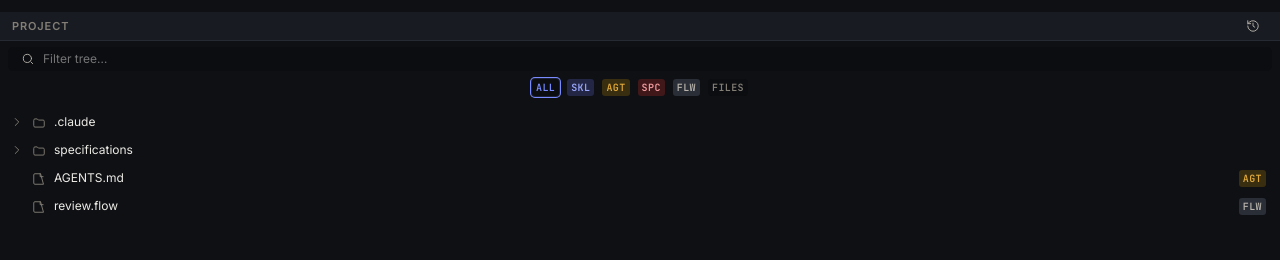
persisted panel state (LIB-FR-14 … LIB-FR-17) › persists the expanded set when a folder is expanded
Click the text "specifications" at (94,150), box [54,142,133,157]
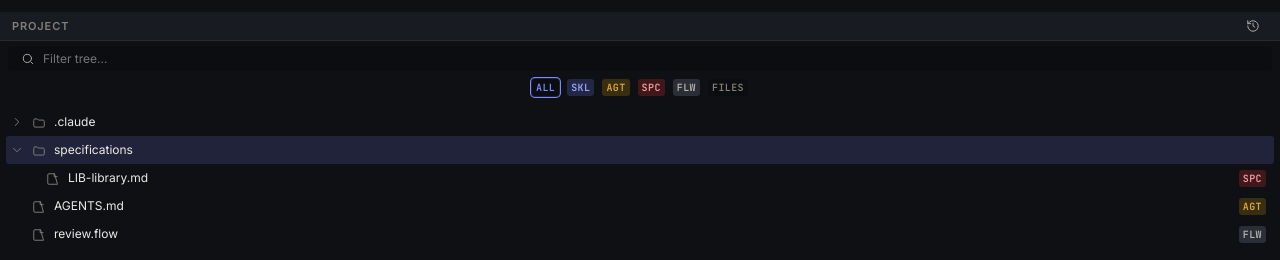
Check: the text "LIB-library.md" is shown, box [68,170,148,185]
